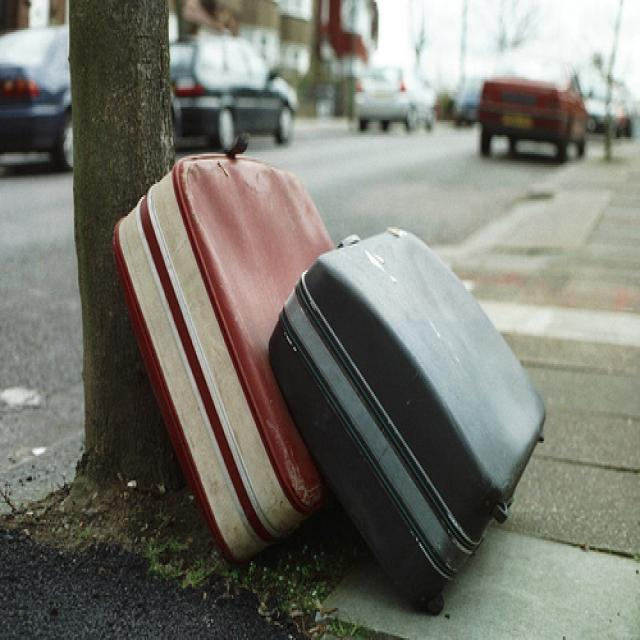Vehicle: (168, 28, 300, 150), (474, 46, 590, 158), (0, 26, 76, 172), (350, 65, 438, 136), (583, 86, 634, 138), (453, 81, 481, 125)
